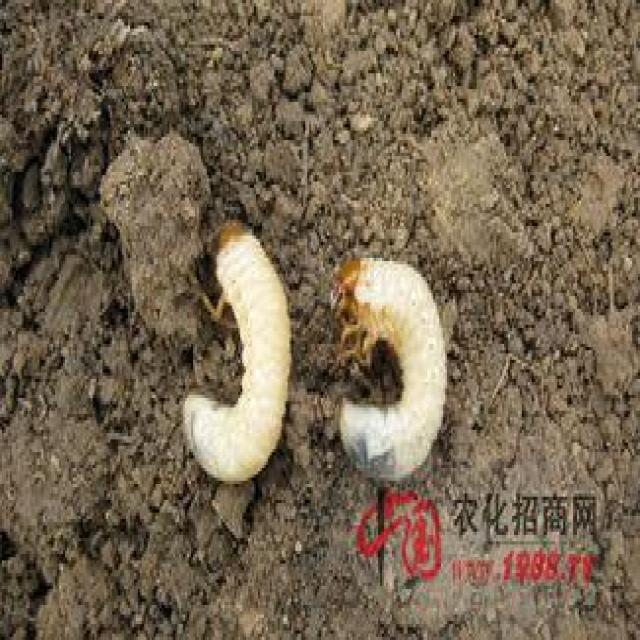Grub-Adult-: (322, 251, 456, 485), (183, 208, 294, 483)
